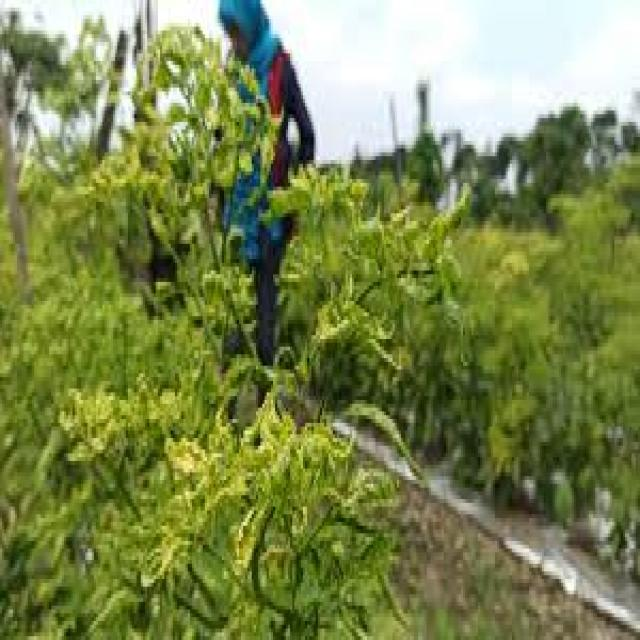Rust: (87, 351, 377, 640), (0, 136, 216, 486), (479, 174, 640, 506), (265, 191, 440, 399), (103, 10, 255, 245)
